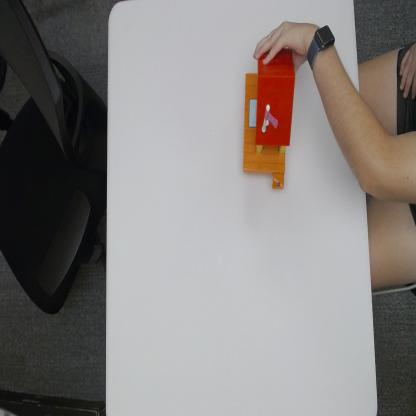Arm: (317, 55, 370, 190)
Hand: (252, 18, 308, 66)
House: (242, 46, 292, 189)
